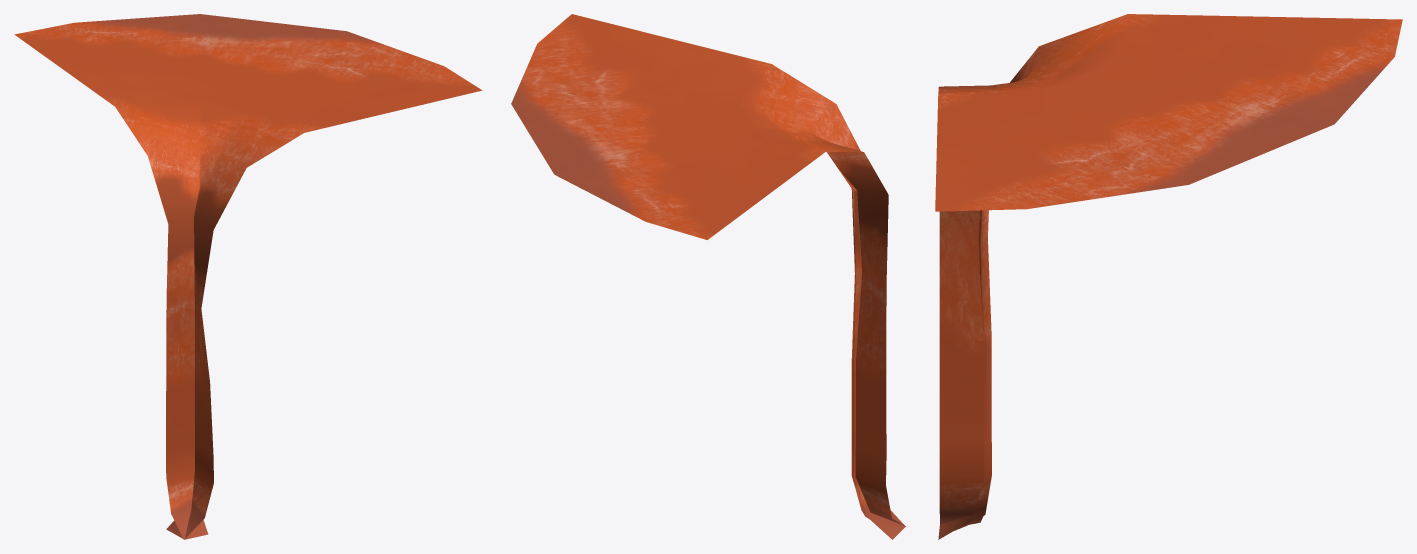
Rendered from CantoParede2.fbx.
3 renders of one model, left to right at view 1: azimuth 30°, elevation 25°; view 2: azimuth 150°, elevation 25°; view 3: azimuth 270°, elevation 25°, orthographic. The views are drawn at different scales.
Parts seen in each view (by area): view 1: CantoParede2; view 2: CantoParede2; view 3: CantoParede2.
Part boxes in pixels (box(x1,y1,x2,y2)): CantoParede2: box(14, 14, 482, 539); CantoParede2: box(511, 14, 905, 539); CantoParede2: box(935, 14, 1402, 539).
Bounding box in the file's own units: 3.62 × 4.41 × 3.66.
